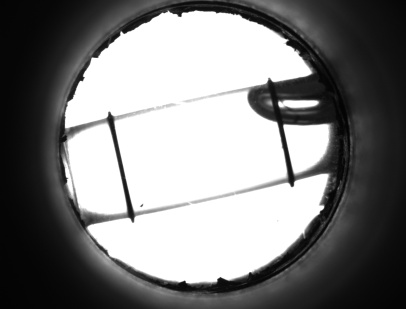line: (109, 133, 136, 202), (274, 129, 297, 168)
